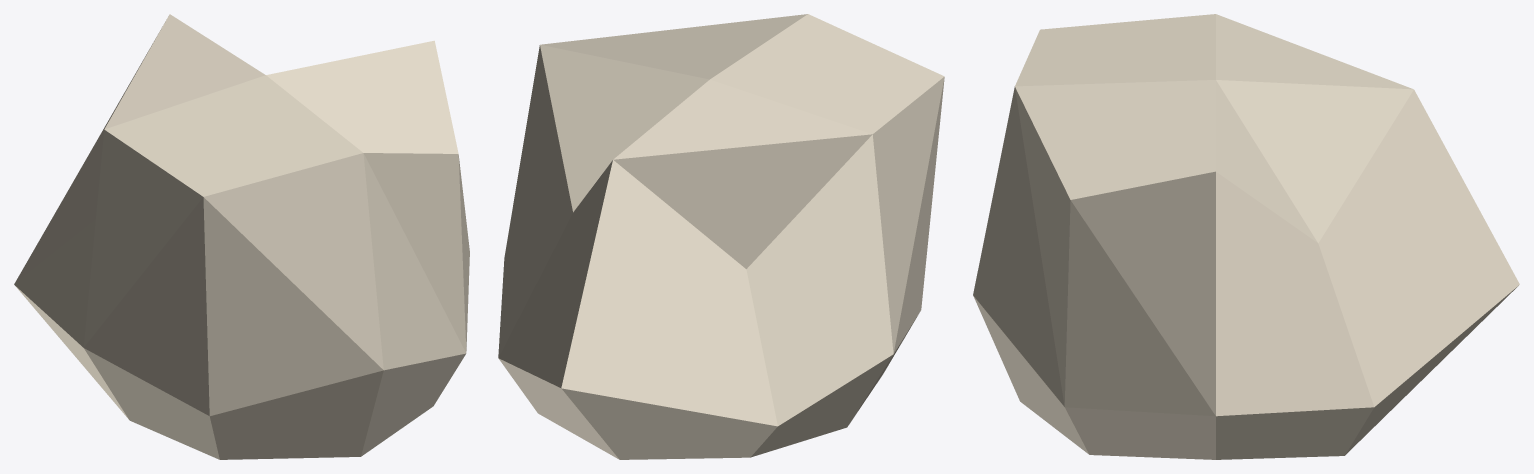
Rendered from roca 2.fbx.
3 renders of one model, left to right at view 1: azimuth 30°, elevation 25°; view 2: azimuth 150°, elevation 25°; view 3: azimuth 270°, elevation 25°, orthographic. The views are drawn at different scales.
Parts seen in each view (by area): view 1: roca 2; view 2: roca 2; view 3: roca 2.
Part boxes in pixels (box(x1,y1,x2,y2)): roca 2: box(14, 14, 469, 459); roca 2: box(498, 14, 944, 459); roca 2: box(973, 14, 1519, 459).
Size of the model in its own units: 70.38 by 54.34 by 83.74.
